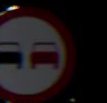No overtake: (1, 6, 73, 99)
